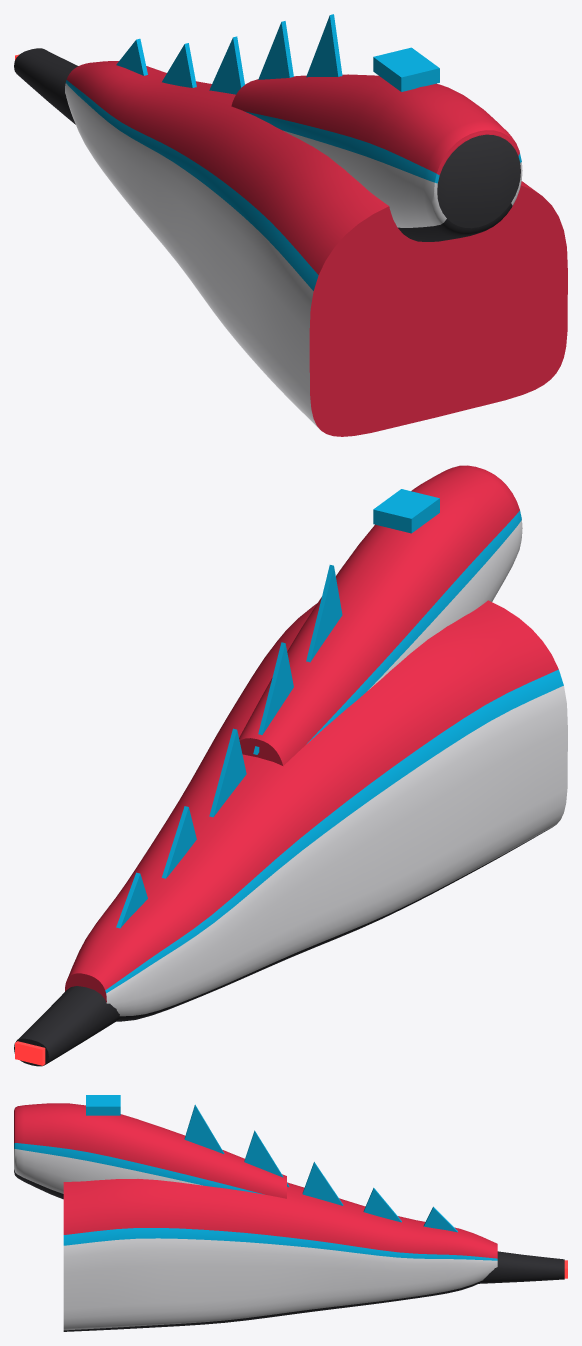
File: spine.glb
3 views of the same model, one above another, from view 1: azimuth 30°, elevation 25°; view 2: azimuth 150°, elevation 25°; view 3: azimuth 270°, elevation 25° (orthographic). The views are drawn at different scales.
Visible parts, largest first — view 1: EngineCover_spine; view 2: EngineCover_spine; view 3: EngineCover_spine.
Part boxes in pixels (x1,y1,x2,y2): EngineCover_spine: (14, 14, 567, 436); EngineCover_spine: (14, 465, 567, 1066); EngineCover_spine: (14, 1095, 567, 1331).
Bounding box in the file's own units: 0.74 × 0.9064 × 2.23.
